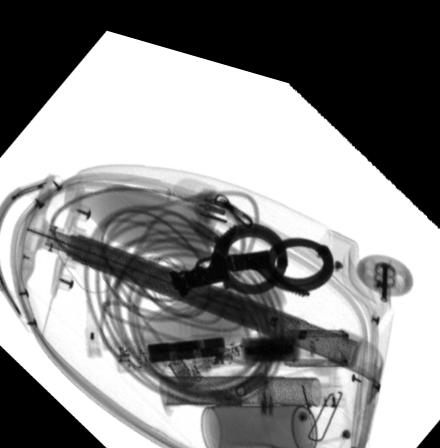Baton: (110, 309, 351, 364)
HandCuffs: (167, 207, 333, 287)
